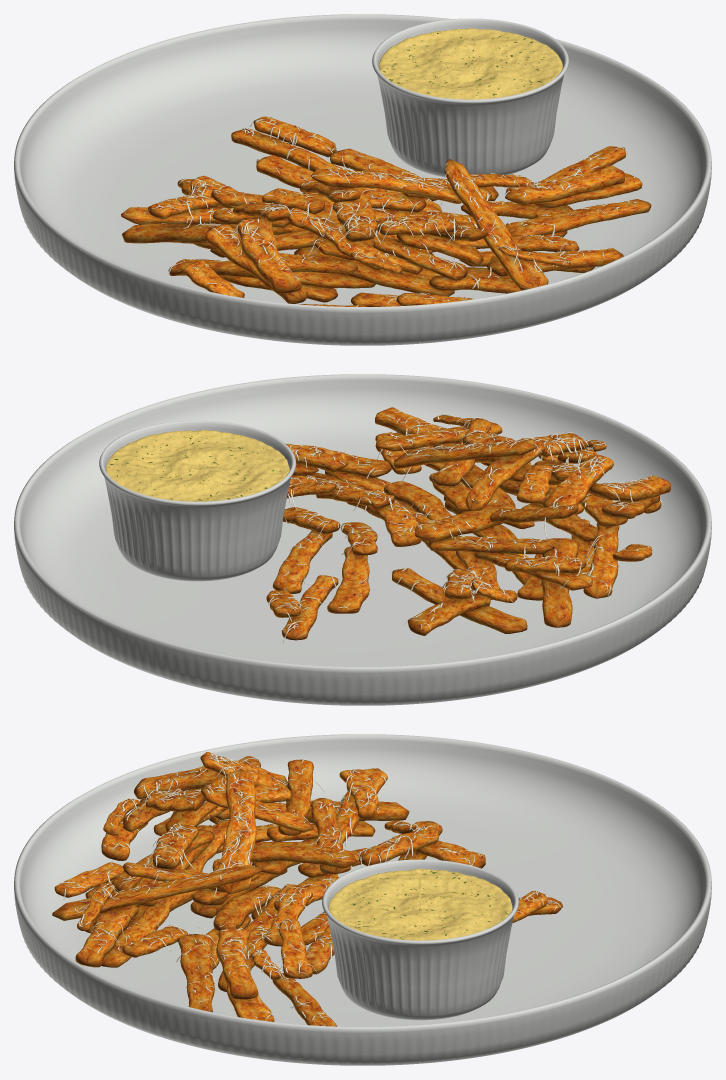
File: crispy_fries_cheese_sauce_12MB.glb
3 views of the same model, one above another, from view 1: azimuth 30°, elevation 25°; view 2: azimuth 150°, elevation 25°; view 3: azimuth 270°, elevation 25° (orthographic).
Parts seen in each view (by area): view 1: Serving bowl • complete rounded wall, underside and foot, Ramekin • glazed flutes, rounded lip and hollow interior, Sauce • thick surface with spoon folds, Grated cheese • 850 individual tapered strands, Fry 60 • individually cut and browned, Fry 42 • individually cut and browned, Fry 31 • individually cut and browned, Fry 59 • individually cut and browned, Fry 58 • individually cut and browned, Fry 24 • individually cut and browned, Fry 36 • individually cut and browned, Fry 03 • individually cut and browned (+36 smaller); view 2: Serving bowl • complete rounded wall, underside and foot, Ramekin • glazed flutes, rounded lip and hollow interior, Sauce • thick surface with spoon folds, Grated cheese • 850 individual tapered strands, Fry 59 • individually cut and browned, Fry 35 • individually cut and browned, Fry 55 • individually cut and browned, Fry 27 • individually cut and browned, Fry 36 • individually cut and browned, Fry 51 • individually cut and browned, Fry 54 • individually cut and browned, Fry 12 • individually cut and browned (+34 smaller); view 3: Serving bowl • complete rounded wall, underside and foot, Ramekin • glazed flutes, rounded lip and hollow interior, Sauce • thick surface with spoon folds, Grated cheese • 850 individual tapered strands, Fry 59 • individually cut and browned, Fry 60 • individually cut and browned, Fry 31 • individually cut and browned, Fry 54 • individually cut and browned, Fry 58 • individually cut and browned, Fry 34 • individually cut and browned, Fry 39 • individually cut and browned, Fry 05 • individually cut and browned (+35 smaller).
Boxes of the visible parts, bbox=[...] form: Serving bowl • complete rounded wall, underside and foot: bbox=[14, 14, 711, 345]; Ramekin • glazed flutes, rounded lip and hollow interior: bbox=[372, 18, 569, 177]; Sauce • thick surface with spoon folds: bbox=[379, 28, 562, 99]; Grated cheese • 850 individual tapered strands: bbox=[124, 116, 636, 306]; Fry 60 • individually cut and browned: bbox=[444, 159, 548, 290]; Fry 42 • individually cut and browned: bbox=[237, 218, 301, 293]; Fry 31 • individually cut and browned: bbox=[505, 199, 651, 236]; Fry 59 • individually cut and browned: bbox=[311, 169, 461, 203]; Fry 58 • individually cut and browned: bbox=[505, 165, 624, 205]; Fry 24 • individually cut and browned: bbox=[231, 128, 342, 171]; Fry 36 • individually cut and browned: bbox=[122, 224, 239, 243]; Fry 03 • individually cut and browned: bbox=[311, 252, 454, 296]; Serving bowl • complete rounded wall, underside and foot: bbox=[14, 374, 711, 705]; Ramekin • glazed flutes, rounded lip and hollow interior: bbox=[99, 420, 296, 581]; Sauce • thick surface with spoon folds: bbox=[106, 430, 289, 501]; Grated cheese • 850 individual tapered strands: bbox=[268, 411, 664, 642]; Fry 59 • individually cut and browned: bbox=[394, 439, 538, 468]; Fry 35 • individually cut and browned: bbox=[392, 568, 527, 633]; Fry 55 • individually cut and browned: bbox=[465, 438, 544, 510]; Fry 27 • individually cut and browned: bbox=[327, 546, 369, 613]; Fry 36 • individually cut and browned: bbox=[541, 538, 578, 627]; Fry 51 • individually cut and browned: bbox=[428, 535, 553, 554]; Fry 54 • individually cut and browned: bbox=[415, 502, 516, 541]; Fry 12 • individually cut and browned: bbox=[583, 522, 619, 598]; Serving bowl • complete rounded wall, underside and foot: bbox=[14, 734, 711, 1065]; Ramekin • glazed flutes, rounded lip and hollow interior: bbox=[322, 859, 518, 1020]; Sauce • thick surface with spoon folds: bbox=[328, 868, 512, 940]; Grated cheese • 850 individual tapered strands: bbox=[59, 753, 566, 1025]; Fry 59 • individually cut and browned: bbox=[215, 769, 256, 893]; Fry 60 • individually cut and browned: bbox=[52, 865, 261, 920]; Fry 31 • individually cut and browned: bbox=[178, 934, 214, 1012]; Fry 54 • individually cut and browned: bbox=[251, 841, 356, 868]; Fry 58 • individually cut and browned: bbox=[216, 928, 258, 999]; Fry 34 • individually cut and browned: bbox=[75, 905, 138, 967]; Fry 39 • individually cut and browned: bbox=[359, 825, 439, 865]; Fry 05 • individually cut and browned: bbox=[101, 903, 169, 967].
Bounding box in the file's own units: 0.279 × 0.0509 × 0.279.
Materials: 9 (2 with a texture image).
